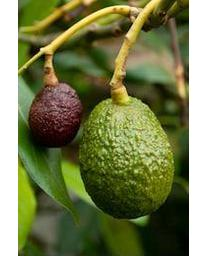avocado: (80, 95, 175, 220), (28, 82, 80, 149)
